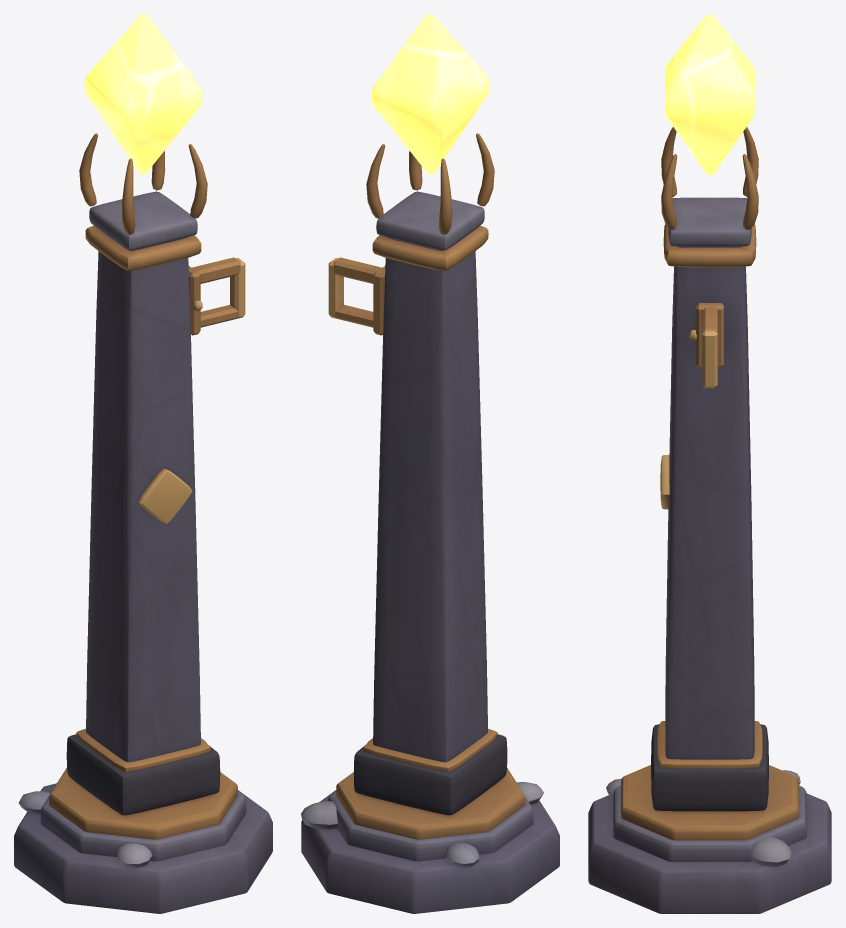
The model's file is EF_G01_EmberCheckpoint.fbx.
3 views of the same model, side by side, from view 1: azimuth 30°, elevation 25°; view 2: azimuth 150°, elevation 25°; view 3: azimuth 270°, elevation 25° (orthographic).
Visible parts, largest first — view 1: Pillar, Base, Crystal, Bracket; view 2: Pillar, Base, Crystal, Bracket; view 3: Pillar, Base, Crystal, Bracket.
Part boxes in pixels (<box>): Pillar: <box>66,133,220,815</box>; Base: <box>14,768,272,913</box>; Crystal: <box>84,14,202,174</box>; Bracket: <box>188,257,245,335</box>; Pillar: <box>354,133,507,815</box>; Base: <box>301,768,559,913</box>; Crystal: <box>371,14,489,174</box>; Bracket: <box>328,257,385,335</box>; Pillar: <box>651,127,768,811</box>; Base: <box>588,765,831,913</box>; Crystal: <box>665,14,754,175</box>; Bracket: <box>689,303,723,388</box>.
Size of the model in its own units: 0.78 by 3 by 0.78.
